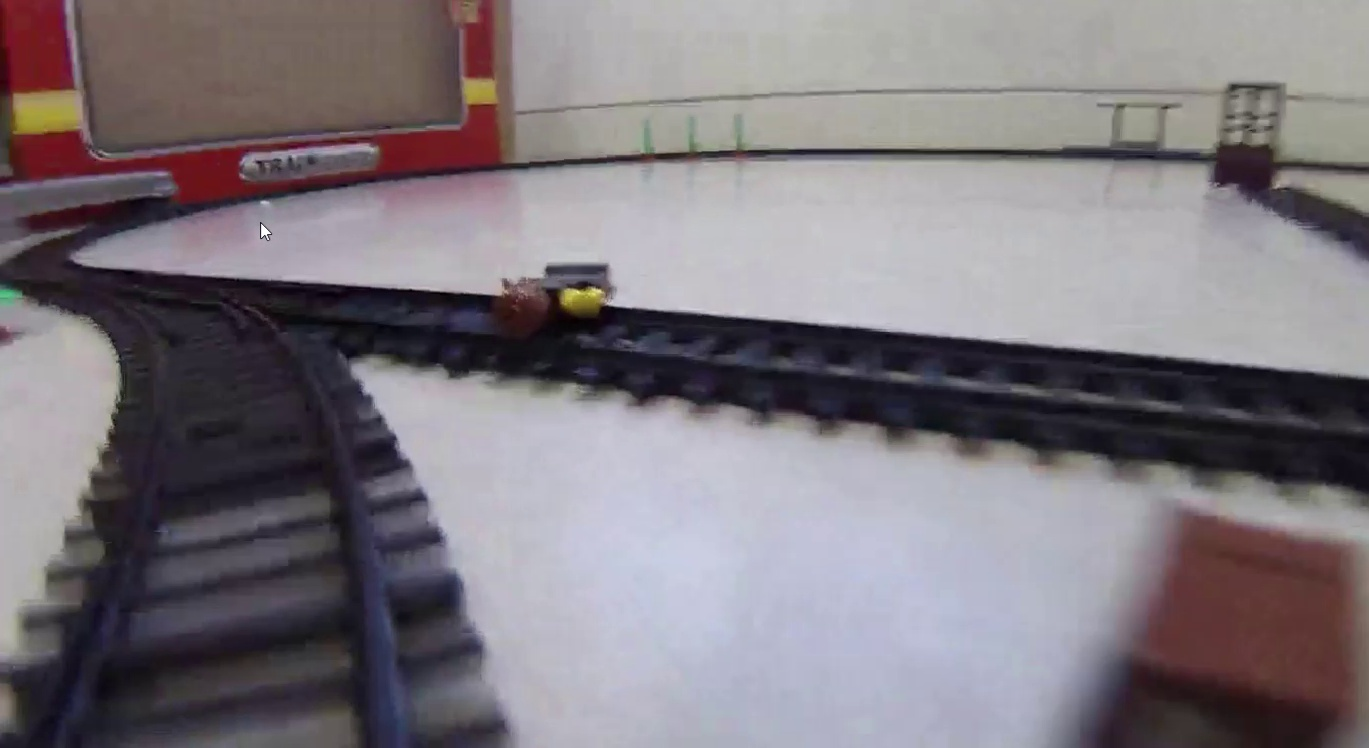box: (1105, 500, 1349, 748)
people: (497, 261, 611, 335)
